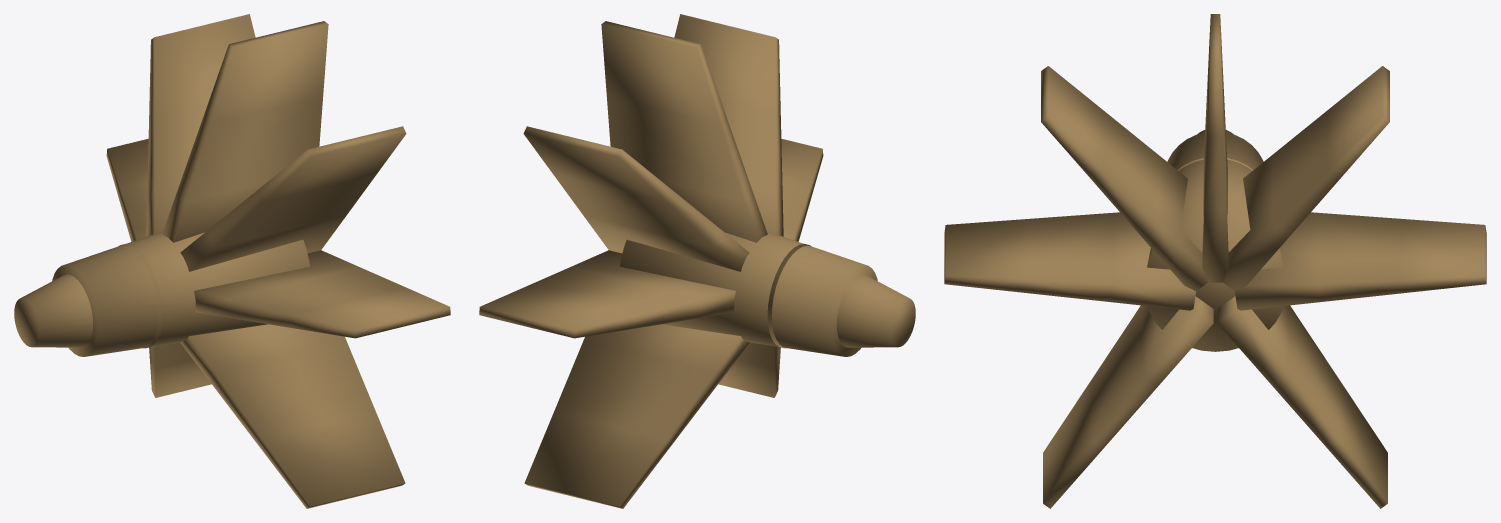
The model's file is US_SSN_LosAngeles_PROPULSOR_01.fbx.
3 renders of one model, left to right at view 1: azimuth 30°, elevation 25°; view 2: azimuth 150°, elevation 25°; view 3: azimuth 270°, elevation 25°, orthographic. The views are drawn at different scales.
Visible parts, largest first — view 1: US_SSN_LosAngeles_PROPULSOR_01; view 2: US_SSN_LosAngeles_PROPULSOR_01; view 3: US_SSN_LosAngeles_PROPULSOR_01.
Boxes of the visible parts, x1,y1,x2,y2 form: US_SSN_LosAngeles_PROPULSOR_01: [14, 14, 450, 508]; US_SSN_LosAngeles_PROPULSOR_01: [479, 14, 915, 508]; US_SSN_LosAngeles_PROPULSOR_01: [944, 14, 1486, 508].
Size of the model in its own units: 2.2 by 3.16 by 2.86.
